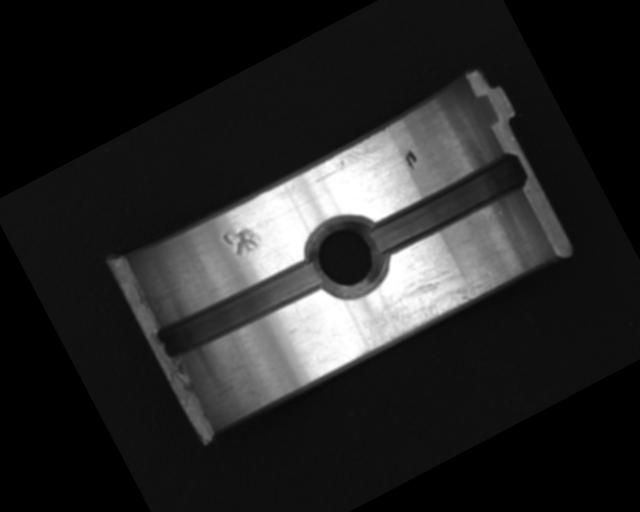blot: (403, 148, 421, 171)
bruise: (220, 218, 264, 260)
gap: (151, 247, 327, 368), (363, 148, 532, 262)
hole: (293, 202, 400, 312)
scratch: (335, 242, 501, 360)
